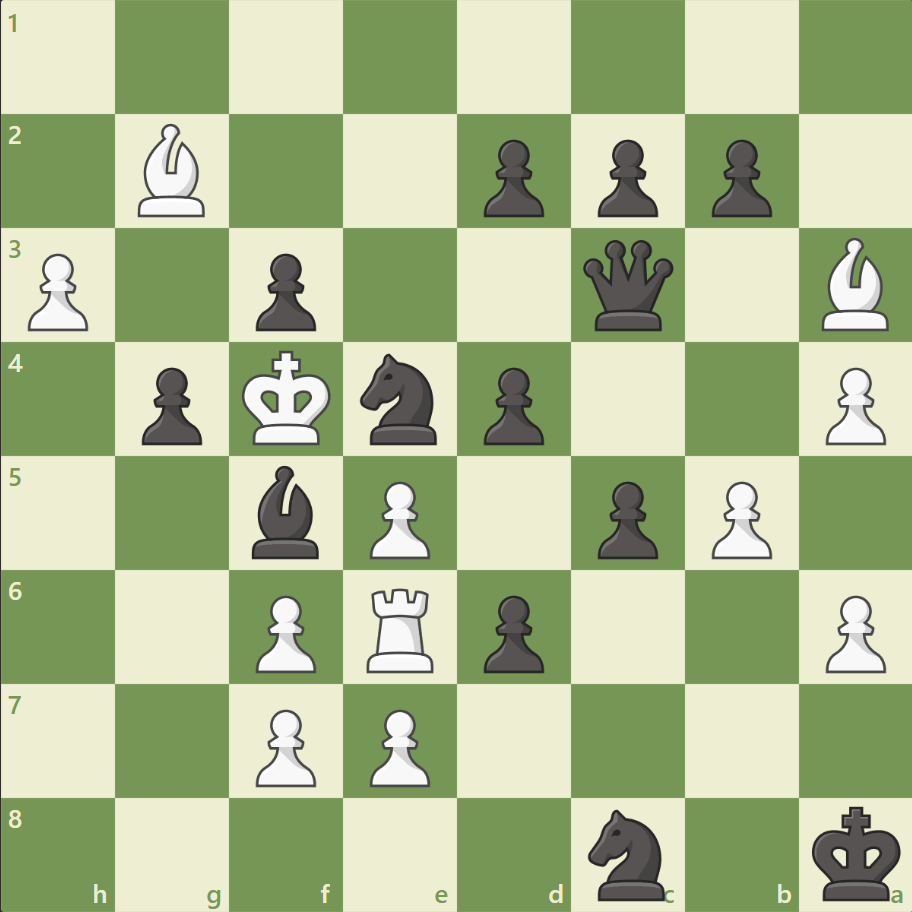B: (812, 233, 896, 336), (131, 120, 215, 222)
K: (238, 344, 338, 452)
P: (247, 700, 322, 791), (247, 586, 322, 677), (701, 473, 776, 564), (20, 246, 95, 337), (361, 700, 435, 791), (815, 586, 889, 677), (361, 473, 435, 564), (815, 359, 889, 450)
R: (360, 579, 442, 676)
b: (244, 460, 328, 563)
k: (806, 798, 906, 906)
n: (351, 348, 449, 450), (579, 802, 676, 904)
p: (474, 586, 549, 677), (474, 359, 549, 450), (133, 359, 208, 450), (247, 246, 322, 337), (701, 132, 776, 223), (474, 132, 549, 223), (588, 473, 662, 564), (588, 132, 662, 223)
q: (578, 236, 677, 335)
